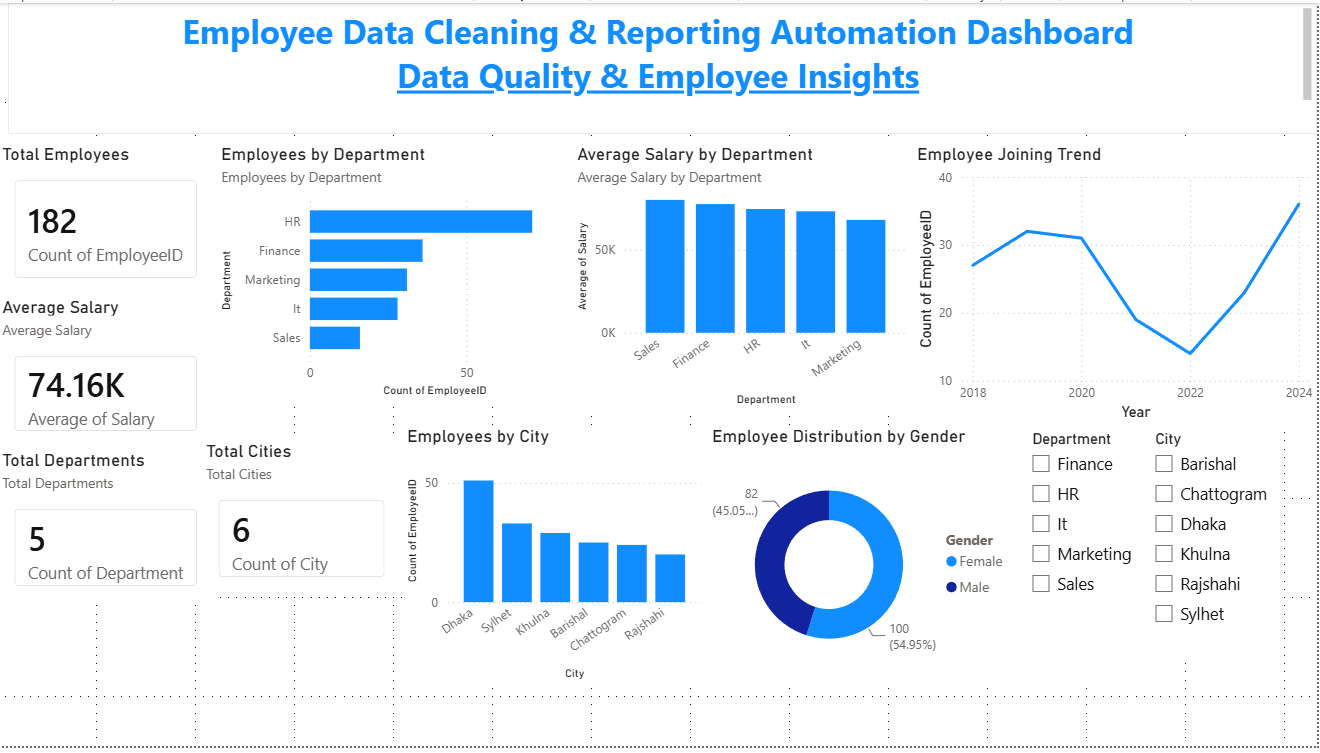

The page's visual inventory and layout, read from the dashboard file:
{"tool":"powerbi","page":{"name":"Page 1","canvas":[1280,720],"ordinal":0},"visuals":[{"type":"textbox","box":[10.9,0,1269.1,127.1],"z":0},{"type":"cardVisual","title":"Average Salary","fields":{"Data":["Avg(Employee_Data_Raw.Salary)"]},"box":[0,284.4,211.9,148.5],"z":1000},{"type":"cardVisual","title":"Total Employees","fields":{"Data":["CountNonNull(Employee_Data_Raw.EmployeeID)"]},"box":[0,135.8,211.9,148.5],"z":2000},{"type":"clusteredBarChart","title":"Employees by Department","fields":{"Category":["Employee_Data_Raw.Department"],"Y":["CountNonNull(Employee_Data_Raw.EmployeeID)"]},"box":[211.9,135.8,346,250],"z":3000},{"type":"clusteredColumnChart","title":"Average Salary by Department","fields":{"Category":["Employee_Data_Raw.Department"],"Y":["Avg(Employee_Data_Raw.Salary)"]},"box":[557.9,135.8,329.7,259],"z":4000},{"type":"cardVisual","title":"Total Departments","fields":{"Data":["Count(Employee_Data_Raw.Department)"]},"box":[0,432.9,211.9,150.3],"z":5000},{"type":"cardVisual","title":"Total Cities","fields":{"Data":["Count(Employee_Data_Raw.City)"]},"box":[197.4,423.8,195.6,150.3],"z":6000},{"type":"clusteredColumnChart","title":"Employees by City","fields":{"Category":["Employee_Data_Raw.City"],"Y":["CountNonNull(Employee_Data_Raw.EmployeeID)"]},"box":[393.1,409.4,295.2,251.8],"z":7000},{"type":"donutChart","title":"Employee Distribution by Gender","fields":{"Category":["Employee_Data_Raw.Gender"],"Y":["CountNonNull(Employee_Data_Raw.EmployeeID)"]},"box":[688.3,409.4,302.5,251.8],"z":8000},{"type":"lineChart","title":"Employee Joining Trend","fields":{"Category":["Employee_Data_Raw.JoiningDate.Variation.Date Hierarchy.Year"],"Y":["CountNonNull(Employee_Data_Raw.EmployeeID)"]},"box":[887.5,135.8,393.1,273.5],"z":9000},{"type":"slicer","fields":{"Values":["Employee_Data_Raw.Department"]},"box":[990.8,409.4,119.5,251.8],"z":9001},{"type":"slicer","fields":{"Values":["Employee_Data_Raw.City"]},"box":[1110.3,409.4,132.2,226.4],"z":9002}]}

Visuals, with their boxes in screenshot pixels (x1, y1, x2, y2), scaled from the page's 1280x720 canvas onto the 1320x753 screenshot:
textbox: <box>11,0,1319,133</box>
"Average Salary" cardVisual: <box>0,297,219,453</box>
"Total Employees" cardVisual: <box>0,142,219,297</box>
"Employees by Department" clusteredBarChart: <box>219,142,575,403</box>
"Average Salary by Department" clusteredColumnChart: <box>575,142,915,413</box>
"Total Departments" cardVisual: <box>0,453,219,610</box>
"Total Cities" cardVisual: <box>204,443,405,600</box>
"Employees by City" clusteredColumnChart: <box>405,428,710,692</box>
"Employee Distribution by Gender" donutChart: <box>710,428,1022,692</box>
"Employee Joining Trend" lineChart: <box>915,142,1319,428</box>
slicer - Employee_Data_Raw.Department: <box>1022,428,1145,692</box>
slicer - Employee_Data_Raw.City: <box>1145,428,1281,665</box>
